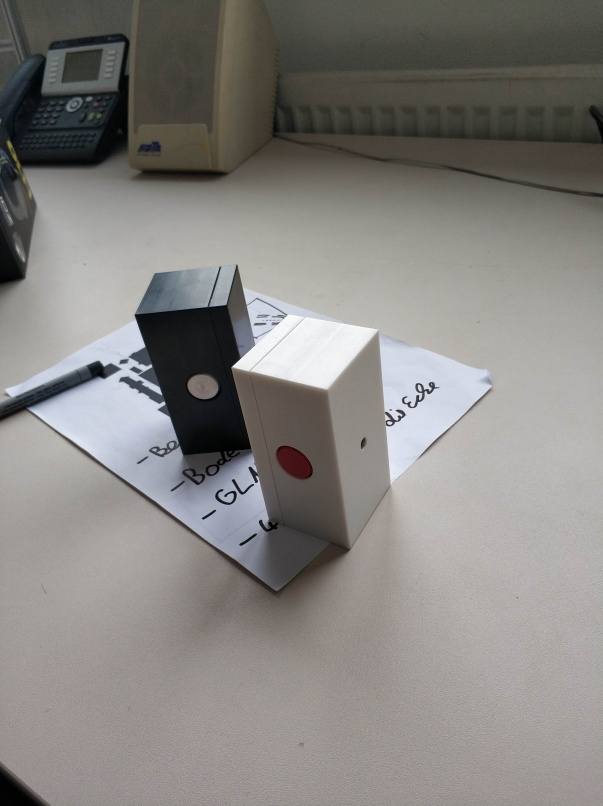black+black+silver: (131, 262, 261, 462)
white+white+red: (229, 307, 396, 557)
